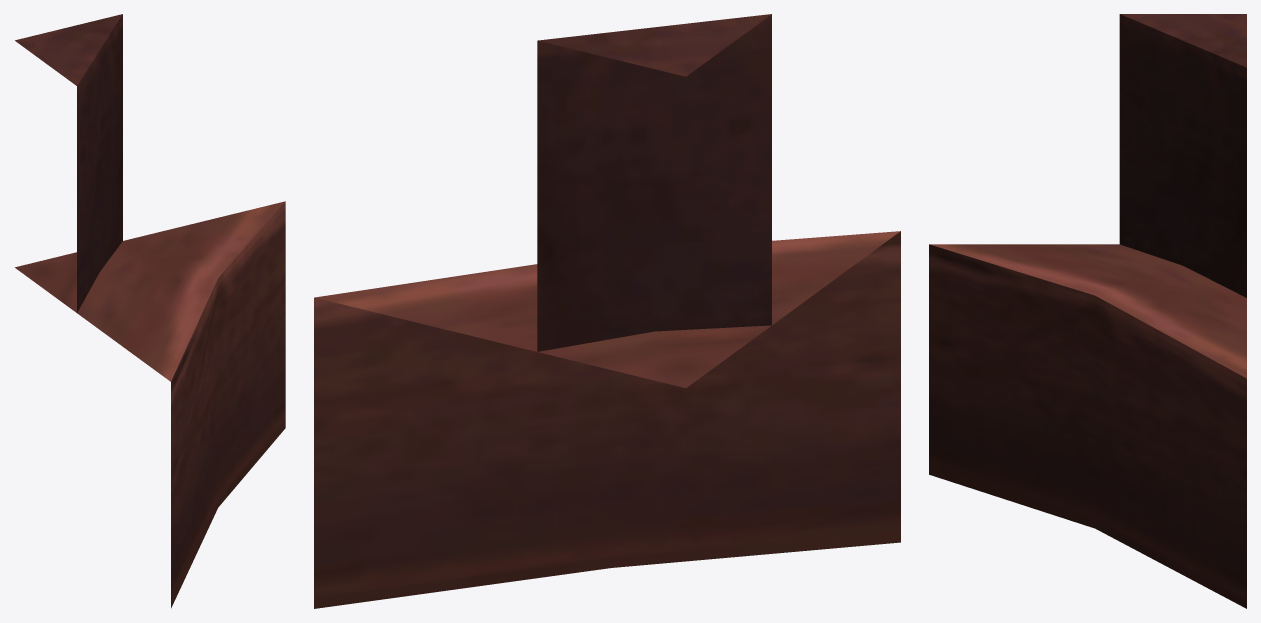
Rendered from lava_railing_convex_01.fbx.
The picture shows the model from 3 angles, left to right: view 1: azimuth 30°, elevation 25°; view 2: azimuth 150°, elevation 25°; view 3: azimuth 270°, elevation 25°; orthographic projection. The views are drawn at different scales.
Visible parts, largest first — view 1: lava_railing_convex_01-0; view 2: lava_railing_convex_01-0; view 3: lava_railing_convex_01-0.
Part boxes in pixels (x1,y1,x2,y2): lava_railing_convex_01-0: (15,14,285,608); lava_railing_convex_01-0: (314,14,900,608); lava_railing_convex_01-0: (929,14,1246,608).
Bounding box in the file's own units: 0.625 × 1 × 0.625.
